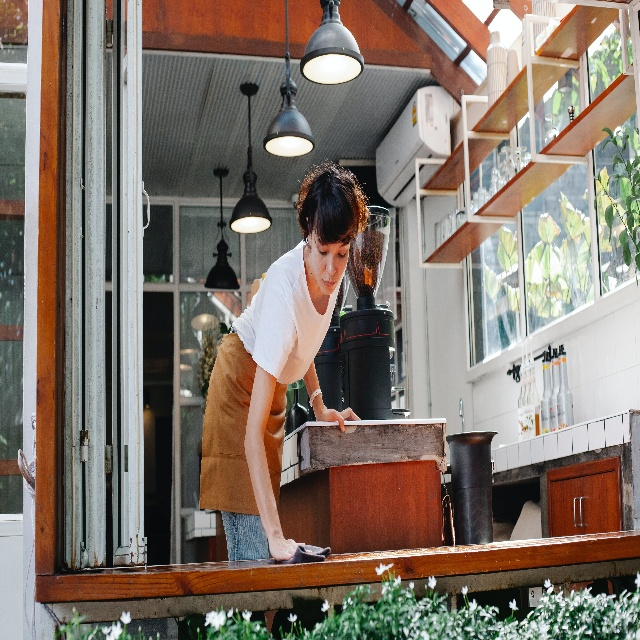Sin_guantes: (316, 406, 362, 432), (269, 537, 312, 560)
